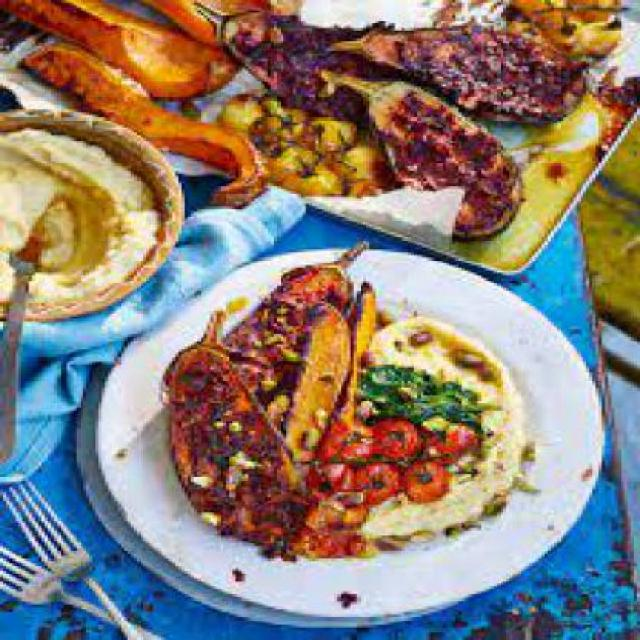eggplant: (216, 2, 570, 235), (184, 237, 376, 561)
hummus: (376, 314, 522, 546)
